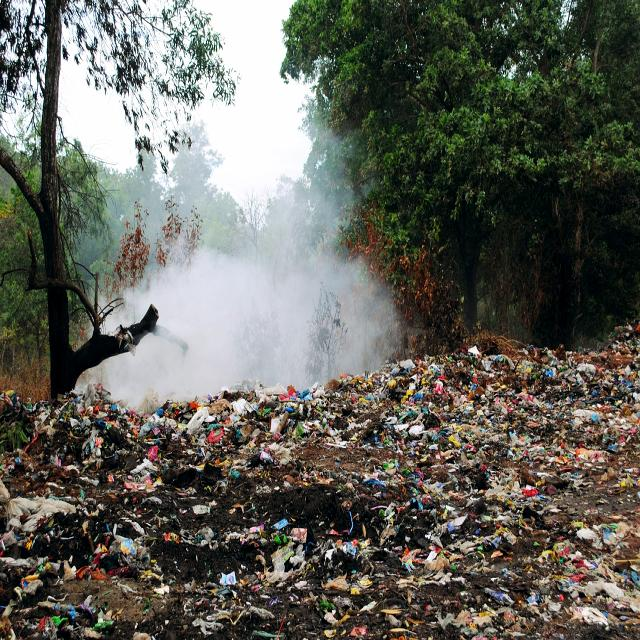Garbage: (2, 355, 639, 640)
